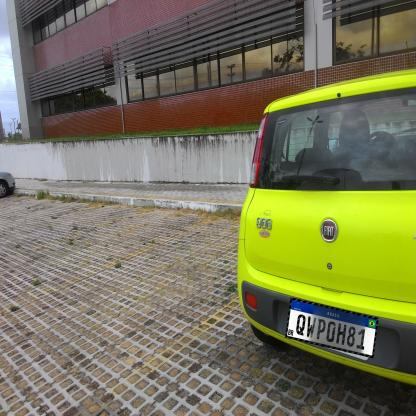PlacaM: (285, 298, 379, 358)
